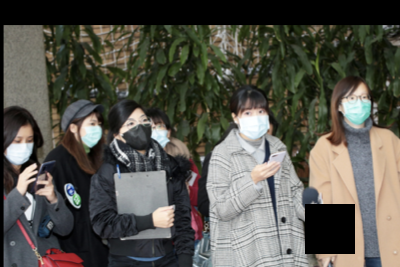with_mask: (237, 104, 269, 141), (122, 113, 152, 151), (341, 91, 371, 124), (5, 133, 34, 166), (80, 117, 103, 149), (149, 123, 169, 147)
